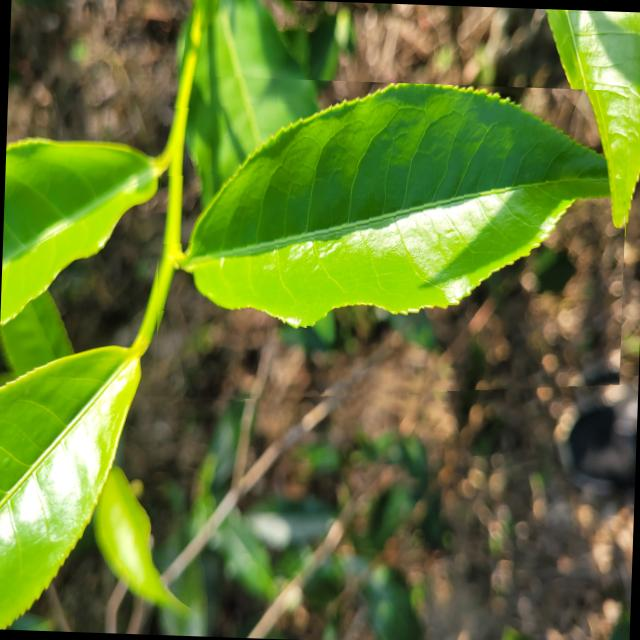Category B(2-4 days): (150, 74, 629, 418)
